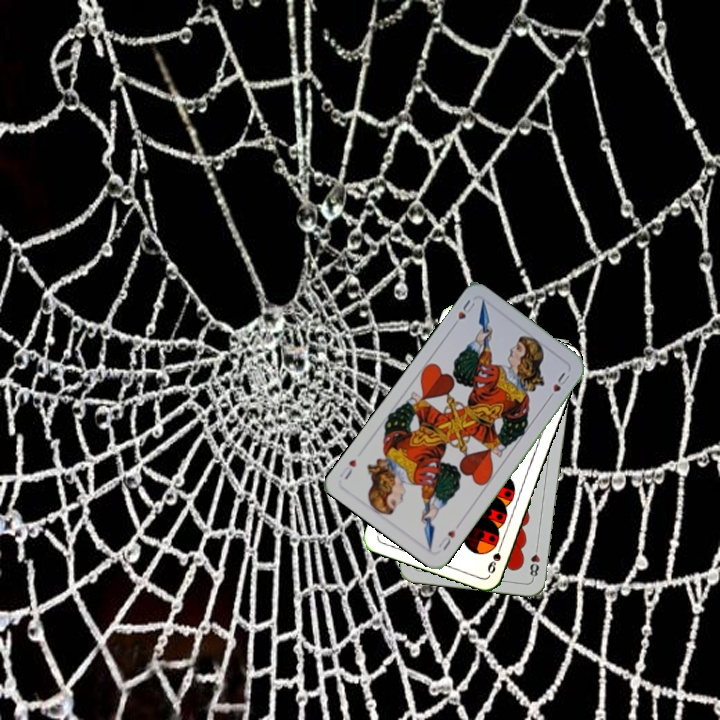H8: (526, 541, 542, 581)
HU: (448, 295, 478, 331), (434, 526, 458, 553)
S9: (483, 537, 506, 576)
